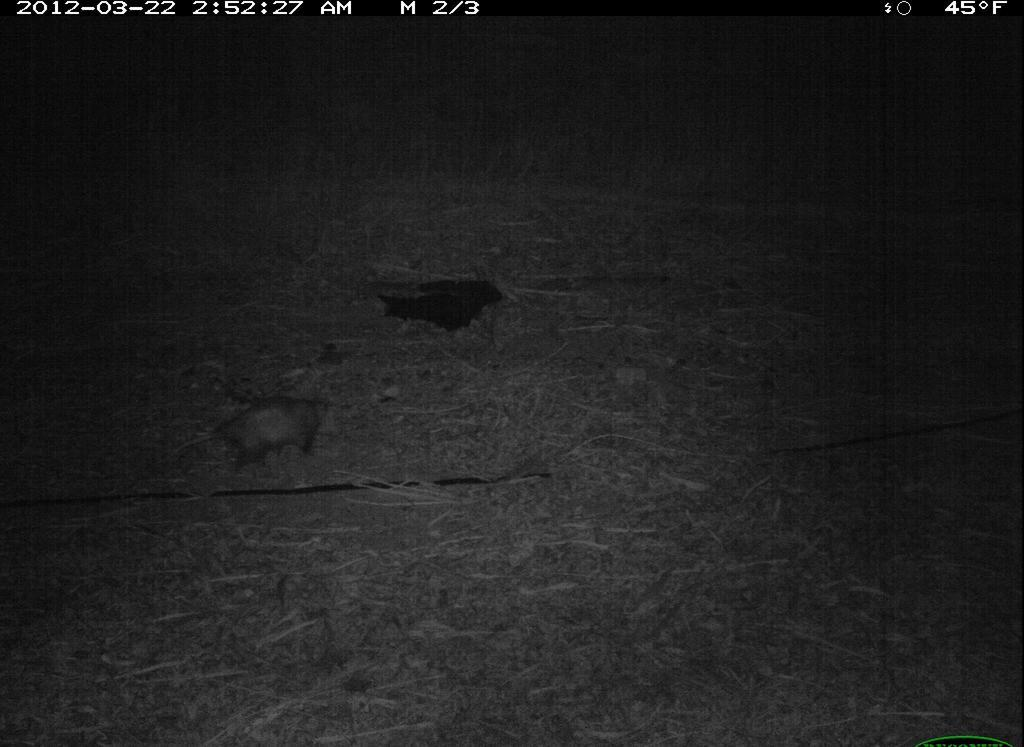opossum: (158, 386, 356, 492)
